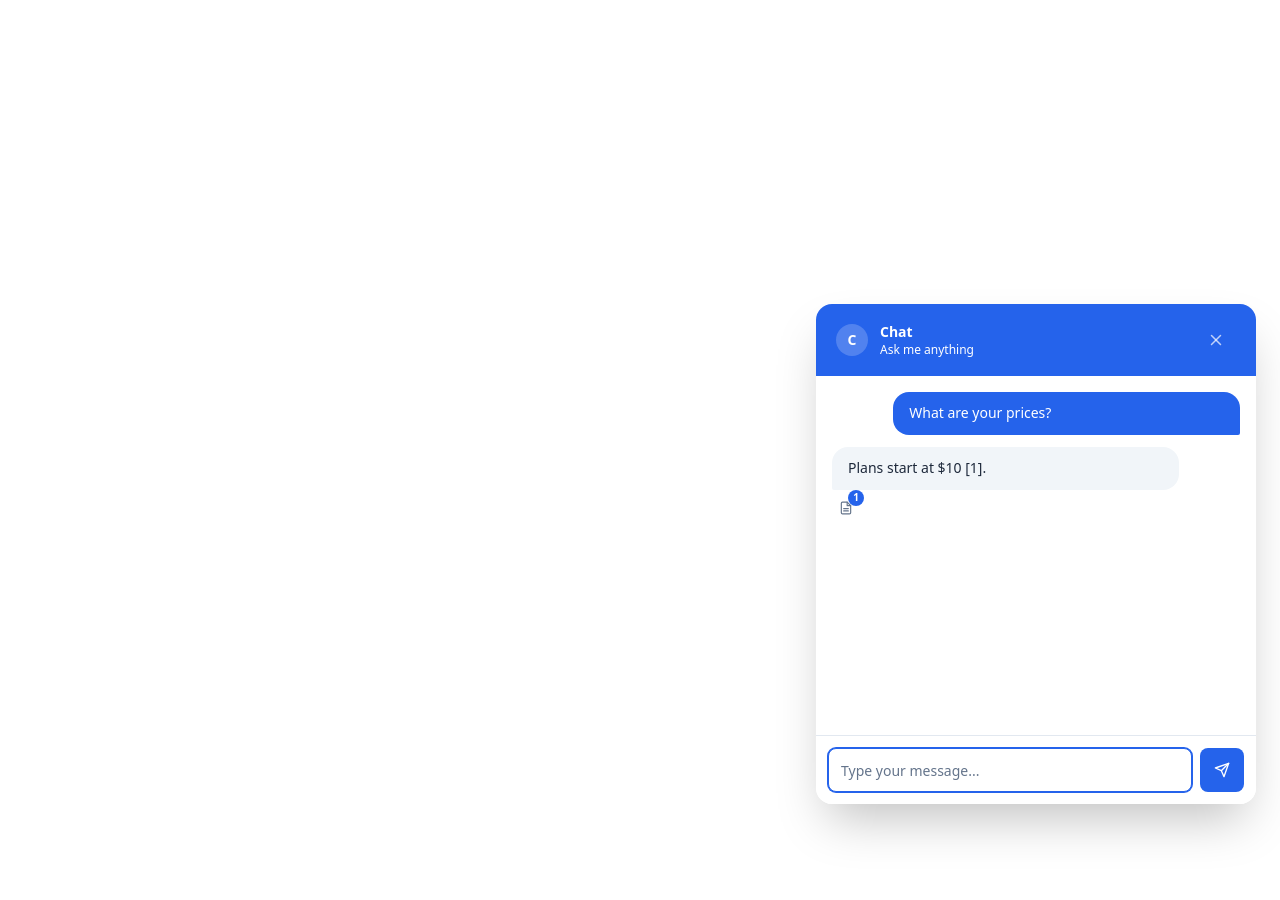
Test case: ChatWindow citations › keeps the source icon and sidebar when citations are off
Click the button named "view sources" at coordinates (846, 508), box [832,494,860,522]
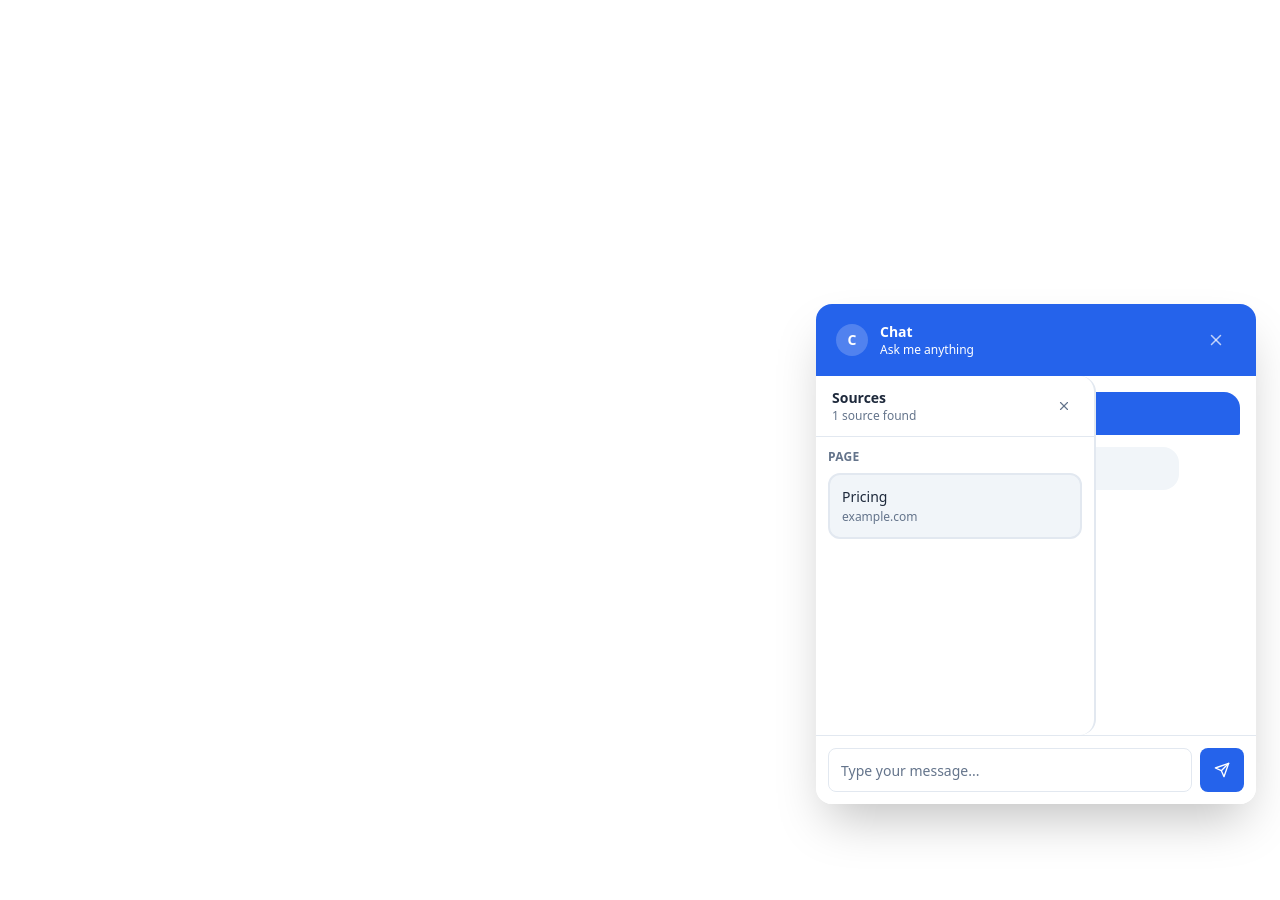
expect the text "1 source found" is shown: met, box [832,408,916,424]
